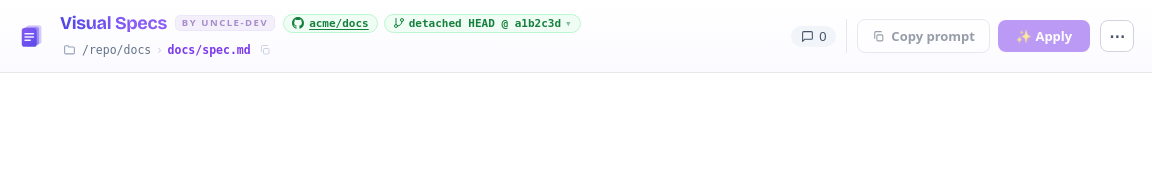
Test: a detached HEAD (R-6.4) › still says the sha is a detached HEAD, and never offers it as a branch
Click the button with test id "git-branch-switch".
click(482, 23)  # box [384, 14, 581, 32]
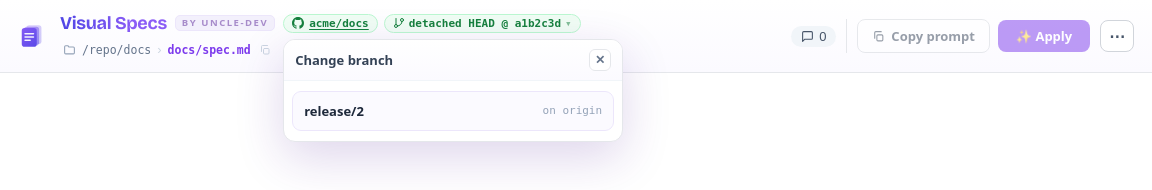
Expected: the element with test id "git-branch-menu" does not show "a1b2c3d"
Expected: the button with test id "git-branch-release/2" is shown, [292, 90, 614, 130]
